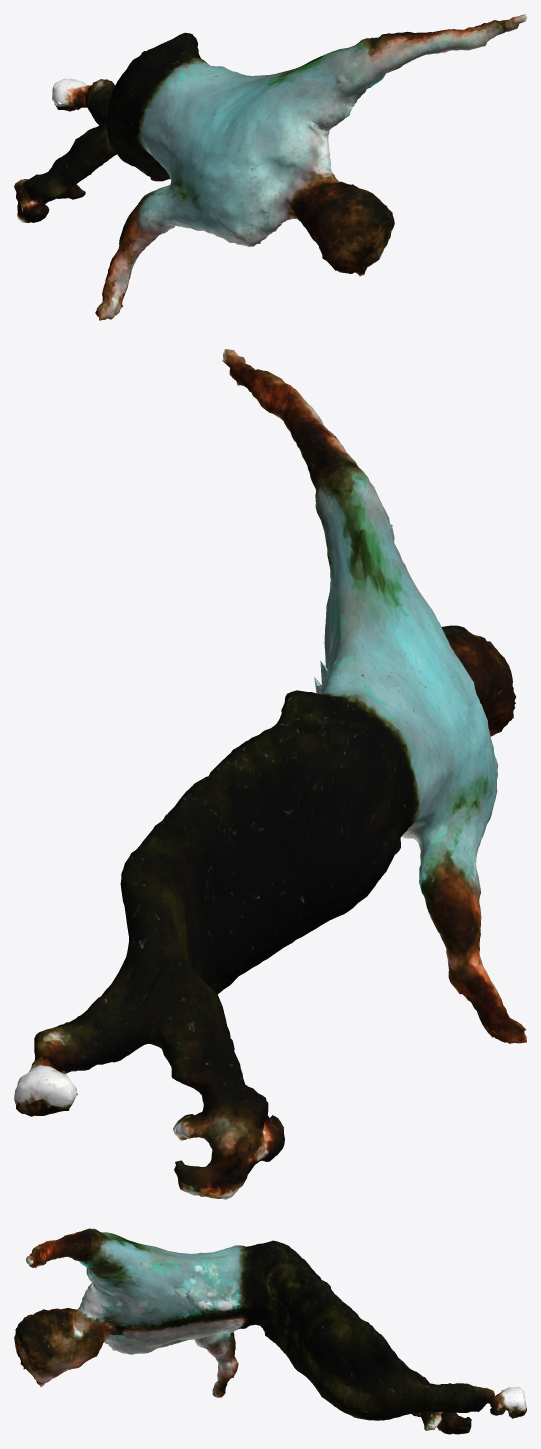
Rendered from lalaland_after.gltf.
The picture shows the model from 3 angles, top to bottom: view 1: azimuth 30°, elevation 25°; view 2: azimuth 150°, elevation 25°; view 3: azimuth 270°, elevation 25°; orthographic projection. The views are drawn at different scales.
Parts seen in each view (by area): view 1: pose1; view 2: pose1; view 3: pose1.
Part boxes in pixels (x1,y1,x2,y2): pose1: [14, 14, 526, 320]; pose1: [14, 349, 526, 1199]; pose1: [14, 1228, 526, 1434].
Size of the model in its own units: 0.7135 by 0.7109 by 1.19.
1 material, 1 textured.
